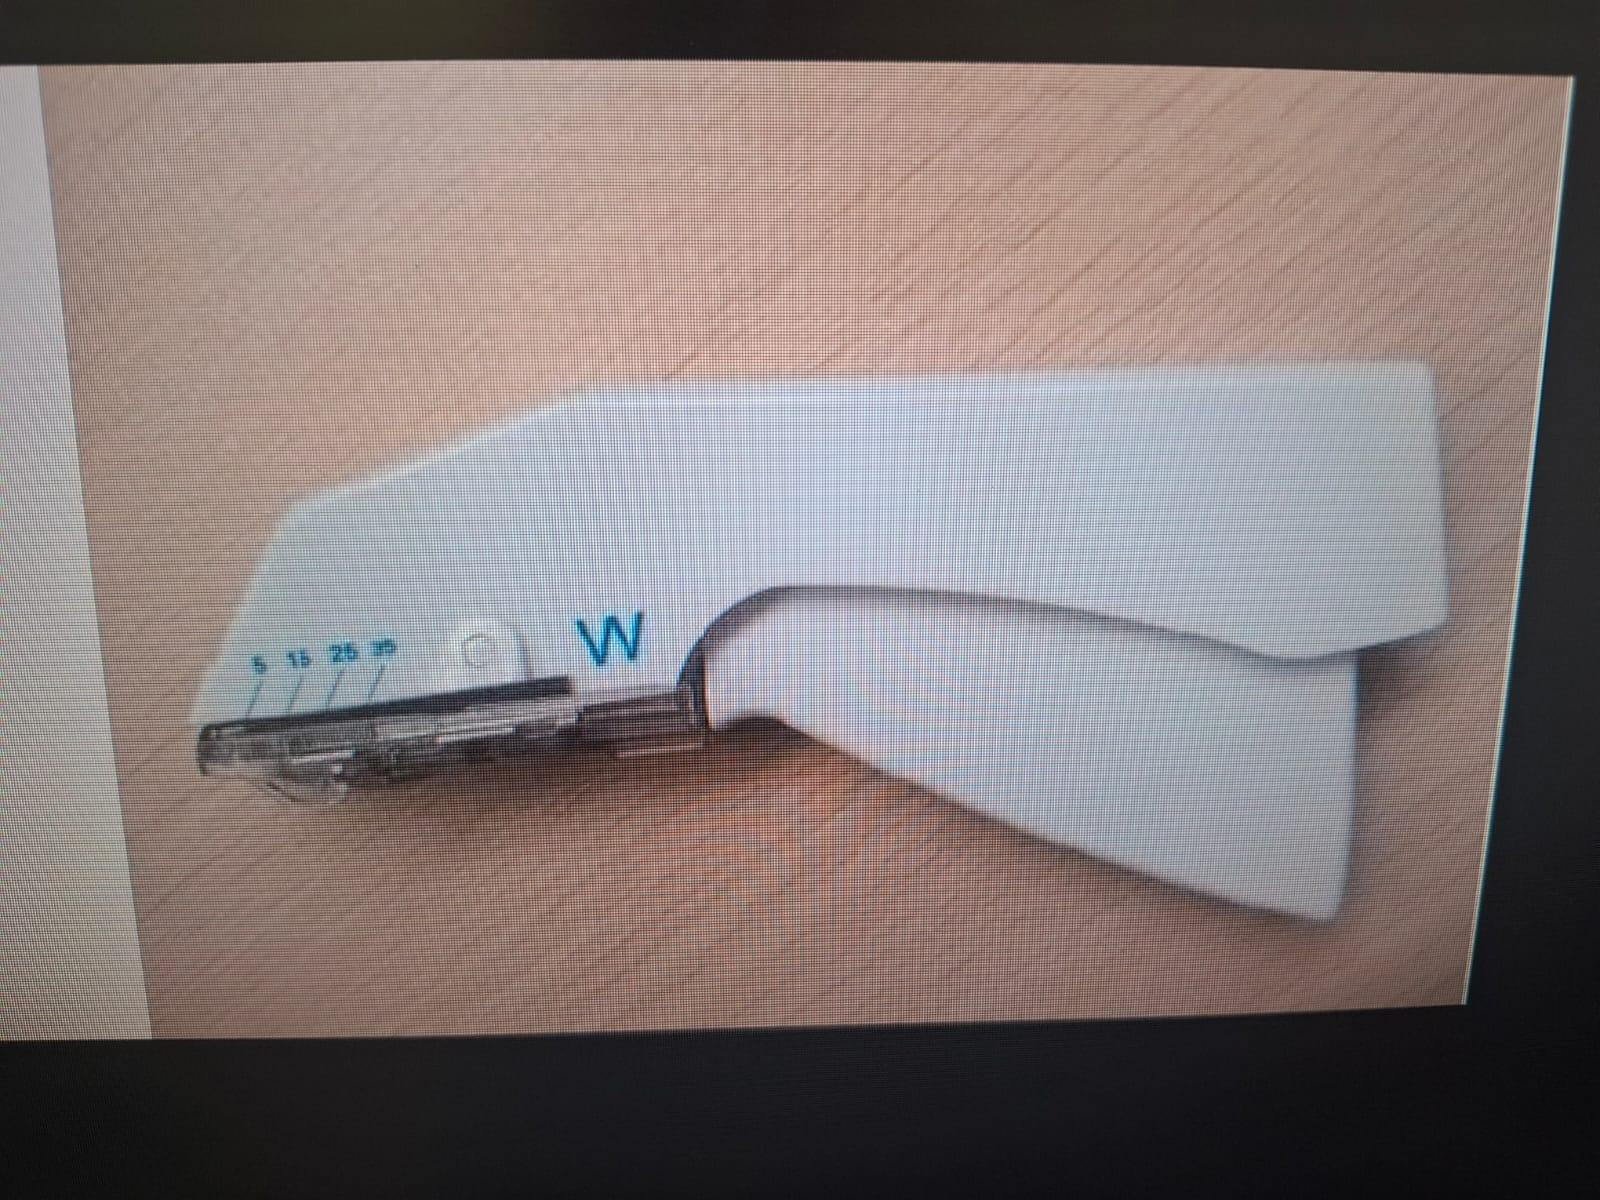Skin Stapler: (168, 334, 1471, 942)
